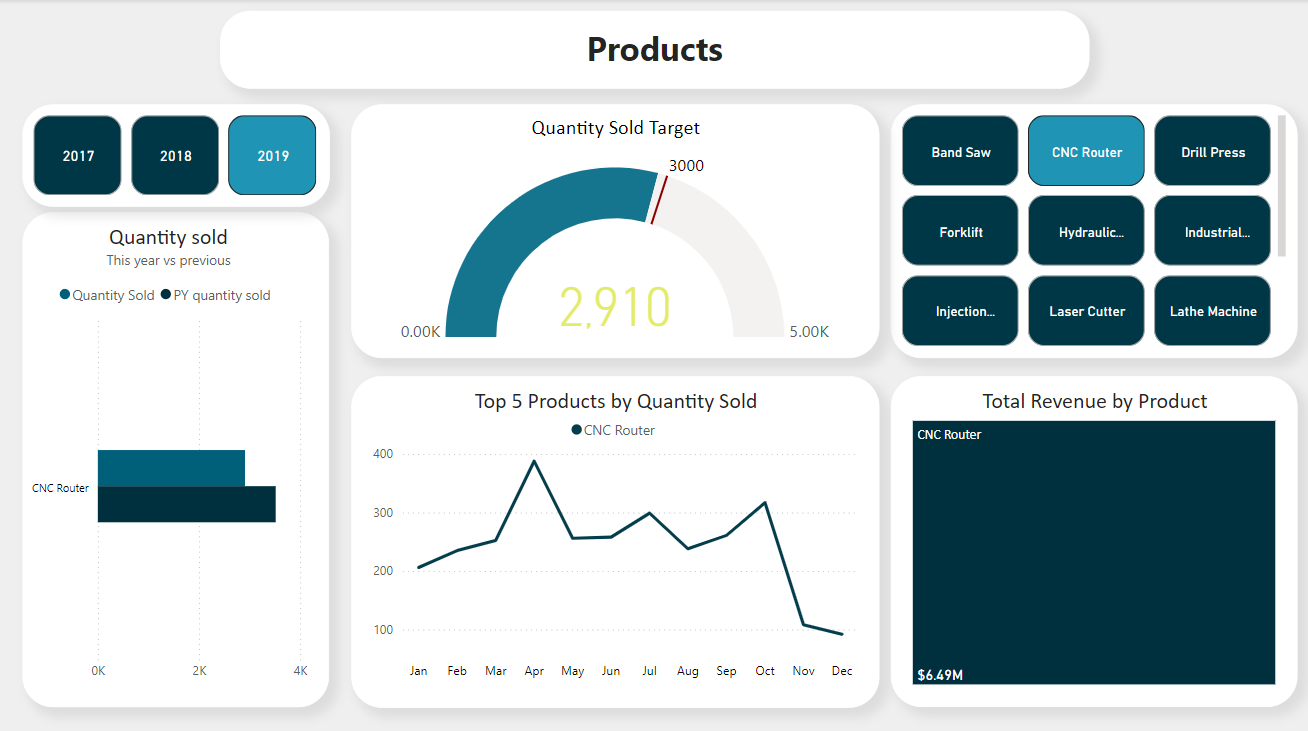

This screenshot's page, from the dashboard's own definition file:
{"tool":"powerbi","page":{"name":"Products","canvas":[1280,720],"ordinal":1},"visuals":[{"type":"textbox","box":[216.2,11.2,848.7,76.2],"z":0},{"type":"clusteredBarChart","title":"Quantity sold","fields":{"Category":["Products_Data.Product Name"],"Y":["DAX measures.Quantity Sold","DAX measures.PY quantity sold"]},"box":[22.8,208,299.4,483.3],"z":1000},{"type":"lineChart","title":"Quantity Sold","fields":{"Category":["Date_Table.Month Short"],"Y":["DAX measures.Quantity Sold"],"Series":["Products_Data.Product Name"]},"box":[343.3,368.3,570,323.3],"z":2000},{"type":"advancedSlicerVisual","fields":{"Values":["Products_Data.Product Name"]},"box":[926,102.8,341.2,588.6],"z":3000},{"type":"advancedSlicerVisual","title":"Year","fields":{"Values":["Date_Table.Year"]},"box":[23.3,103.3,300,100],"z":4000},{"type":"gauge","title":"Target","fields":{"TargetValue":["DAX measures.Target Quantity"],"Y":["DAX measures.Gauge Value"]},"box":[343.8,102.8,569.6,247.4],"z":5000}]}

Visuals, with their boxes in screenshot pixels (x1, y1, x2, y2), scaled from the page's 1280x720 canvas onto the 1308x731 screenshot:
textbox: 221, 11, 1088, 89
"Quantity sold" clusteredBarChart: 23, 211, 329, 702
"Quantity Sold" lineChart: 351, 374, 933, 702
advancedSlicerVisual - Products_Data.Product Name: 946, 104, 1295, 702
"Year" advancedSlicerVisual: 24, 105, 330, 206
"Target" gauge: 351, 104, 933, 356
